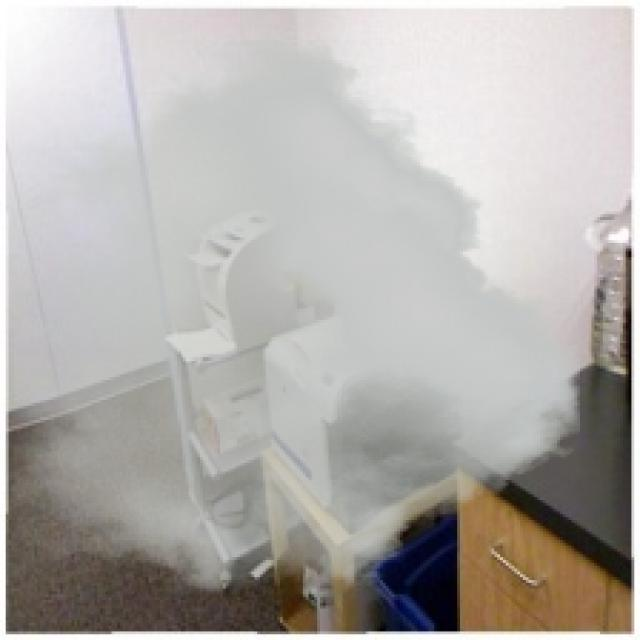Smoke: (11, 39, 580, 594)
